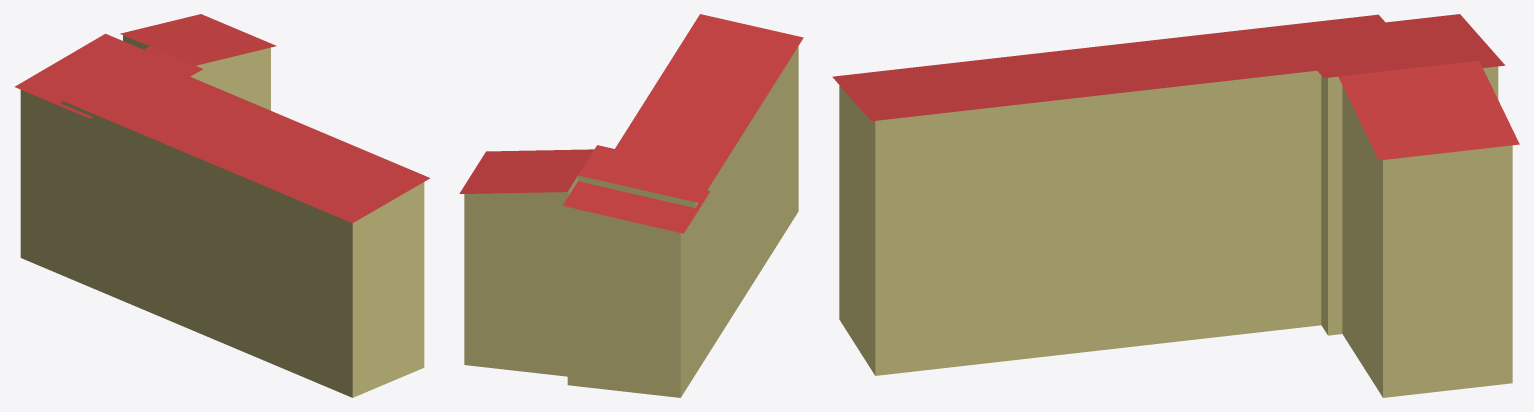
The picture shows the model from 3 angles, left to right: view 1: azimuth 30°, elevation 25°; view 2: azimuth 150°, elevation 25°; view 3: azimuth 270°, elevation 25°; orthographic projection. The views are drawn at different scales.
Bounding box in the file's own units: 15.2 × 28.58 × 11.94.
